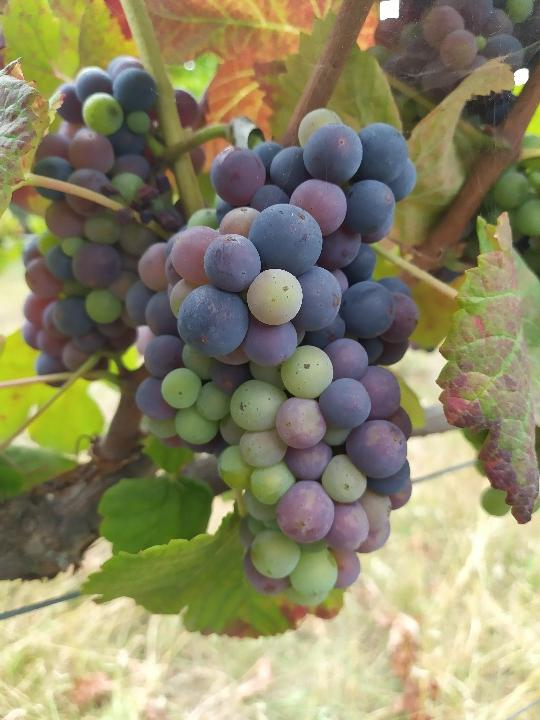grape: (131, 105, 420, 610)
